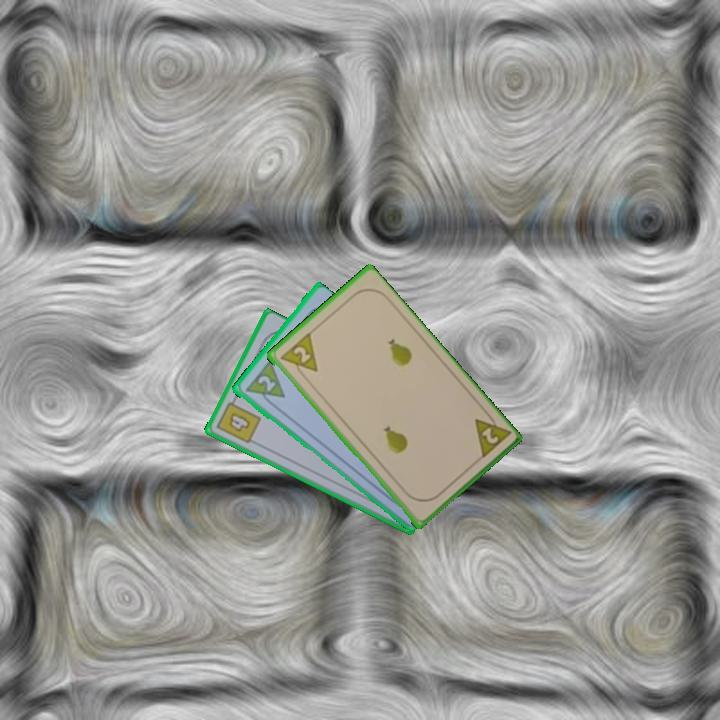2p: (276, 330, 320, 382), (477, 423, 501, 447), (253, 371, 278, 394)
4b: (213, 393, 264, 447)
